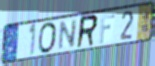1: (28, 22, 37, 57)
2: (120, 9, 135, 41)
F: (99, 12, 116, 45)
N: (57, 18, 79, 52)
O: (38, 21, 58, 55)
R: (75, 13, 100, 51)
